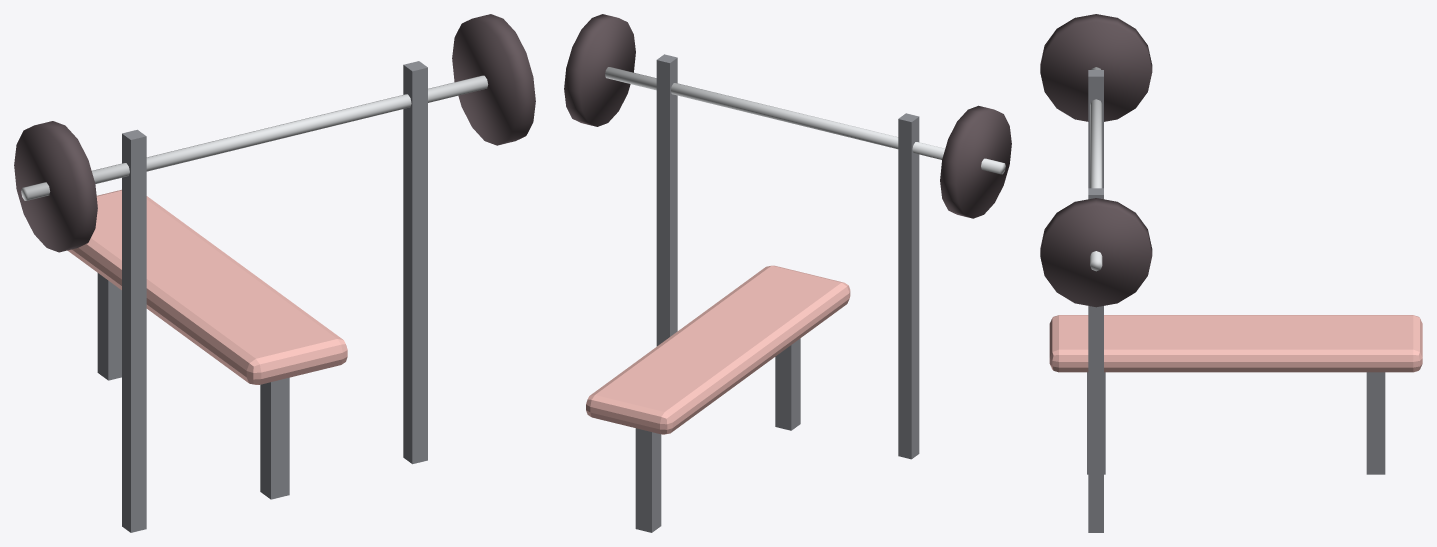
File: banco_supino.glb
3 views of the same model, side by side, from view 1: azimuth 30°, elevation 25°; view 2: azimuth 150°, elevation 25°; view 3: azimuth 270°, elevation 25° (orthographic). The views are drawn at different scales.
Visible parts, largest first — view 1: banco_supino; view 2: banco_supino; view 3: banco_supino.
Boxes of the visible parts, <box> form: banco_supino: <box>14,14,535,532</box>; banco_supino: <box>564,14,1011,532</box>; banco_supino: <box>1040,14,1422,532</box>.
Size of the model in its own units: 1.6 by 1.28 by 1.23.
